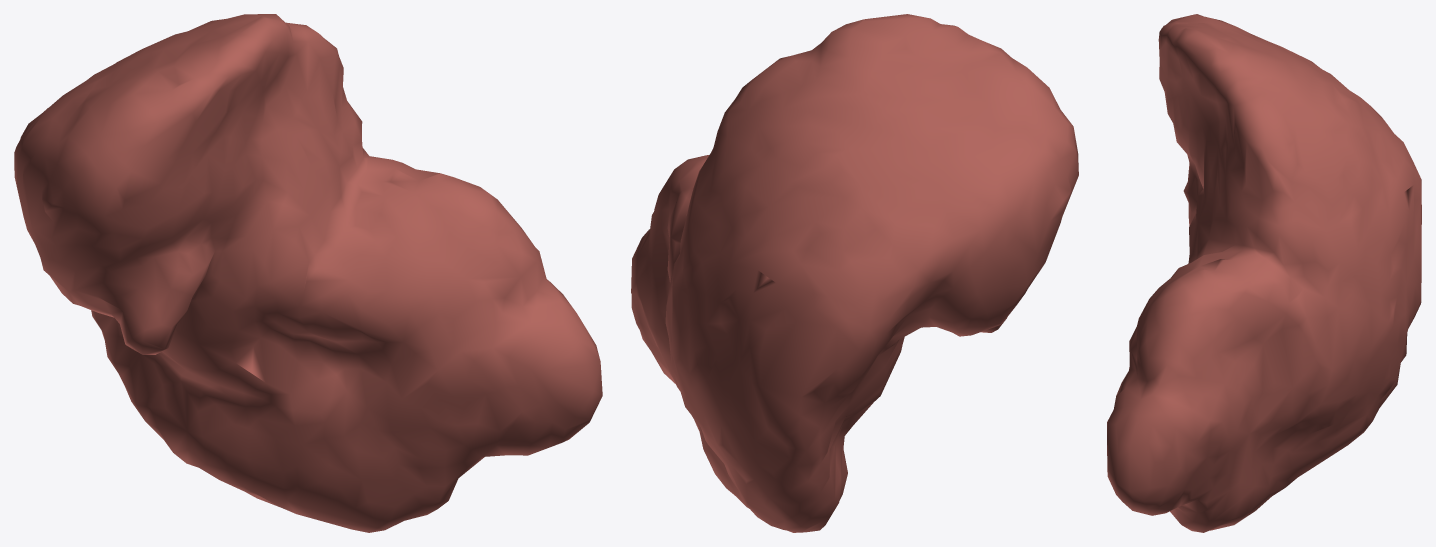
File: tsd_s0196_older_adult_female.lymphatic.LOD2.glb
The picture shows the model from 3 angles, left to right: view 1: azimuth 30°, elevation 25°; view 2: azimuth 150°, elevation 25°; view 3: azimuth 270°, elevation 25°; orthographic projection. The views are drawn at different scales.
Parts seen in each view (by area): view 1: TSD_S0196.OLDER_ADULT.FEMALE.LYMPHATIC.SPLEEN; view 2: TSD_S0196.OLDER_ADULT.FEMALE.LYMPHATIC.SPLEEN; view 3: TSD_S0196.OLDER_ADULT.FEMALE.LYMPHATIC.SPLEEN.
Part boxes in pixels (x1,y1,x2,y2): TSD_S0196.OLDER_ADULT.FEMALE.LYMPHATIC.SPLEEN: [14, 14, 602, 532]; TSD_S0196.OLDER_ADULT.FEMALE.LYMPHATIC.SPLEEN: [631, 14, 1078, 532]; TSD_S0196.OLDER_ADULT.FEMALE.LYMPHATIC.SPLEEN: [1107, 14, 1421, 532].
Size of the model in its own units: 0.0933 by 0.0963 by 0.0631.
